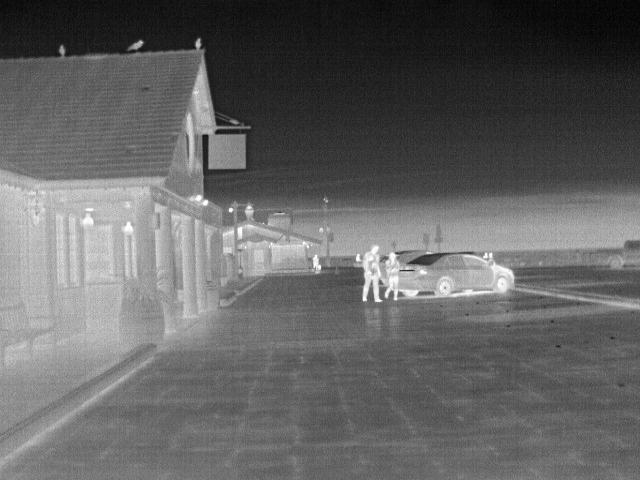car: (396, 252, 518, 300), (597, 240, 640, 271)
person: (359, 244, 385, 304), (380, 252, 401, 300), (311, 252, 321, 271)
